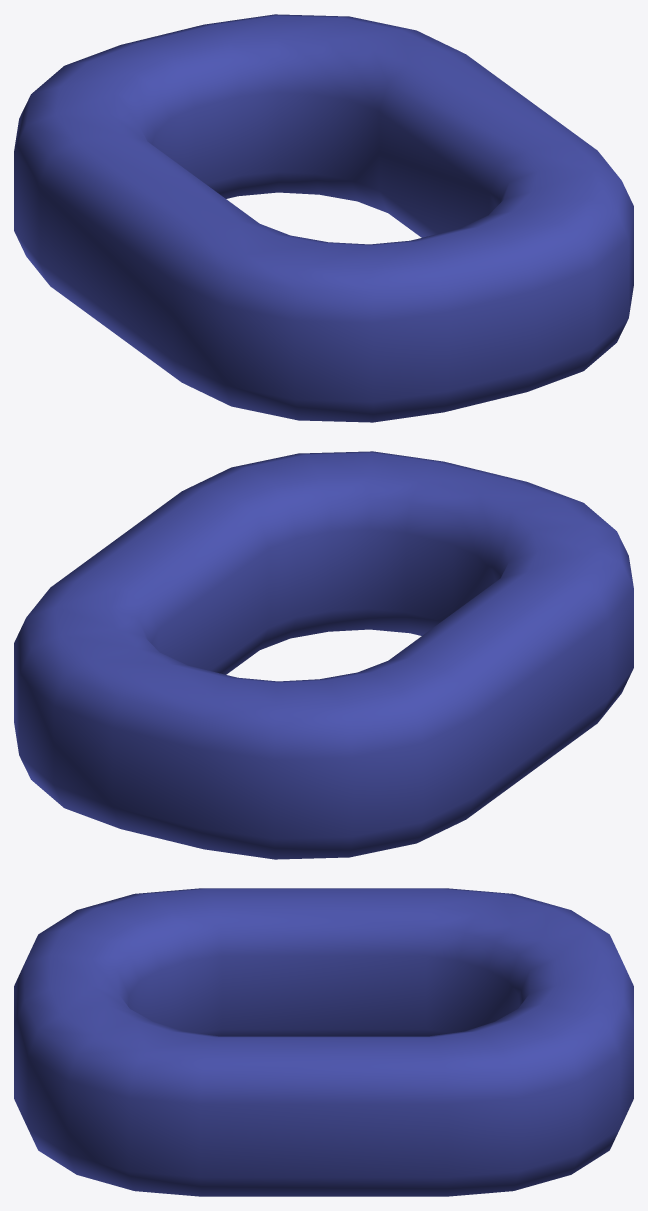
The model's file is chain_piece.fbx.
3 renders of one model, top to bottom at view 1: azimuth 30°, elevation 25°; view 2: azimuth 150°, elevation 25°; view 3: azimuth 270°, elevation 25°, orthographic. The views are drawn at different scales.
Visible parts, largest first — view 1: chain_piece; view 2: chain_piece; view 3: chain_piece.
Part boxes in pixels (box(x1,y1,x2,y2)): chain_piece: box(14, 14, 633, 422); chain_piece: box(14, 451, 633, 859); chain_piece: box(14, 888, 633, 1196).
Bounding box in the file's own units: 15 × 5 × 19.98.
